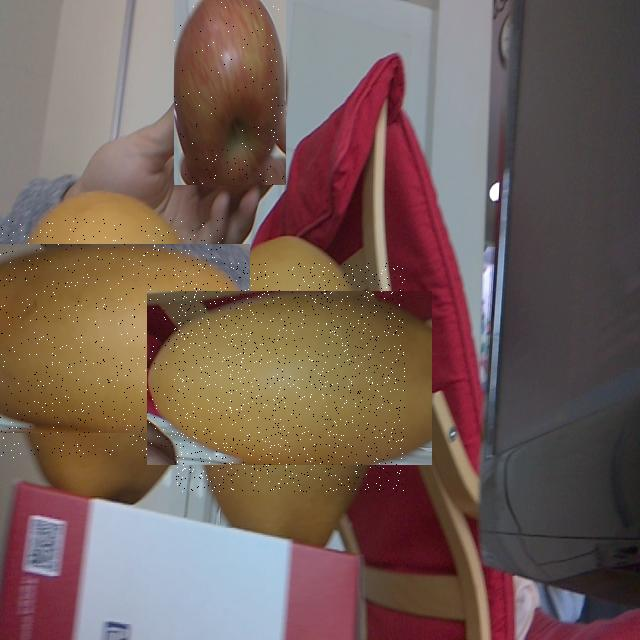apple: (174, 0, 286, 185)
pear: (0, 218, 225, 458), (174, 263, 405, 492)
